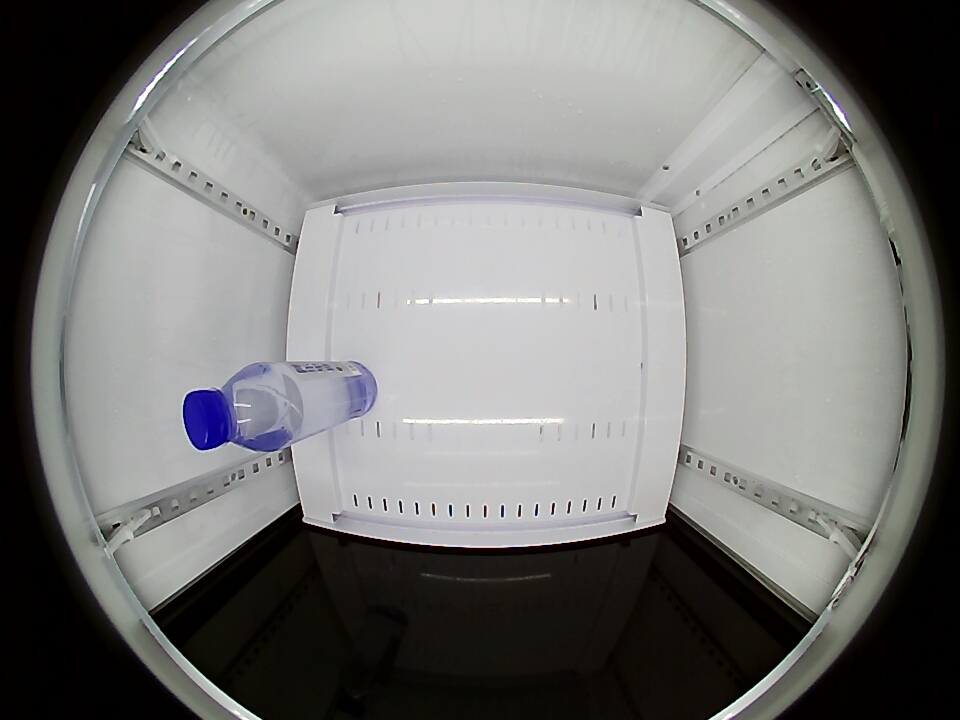aerbeisi: (182, 363, 295, 453)
